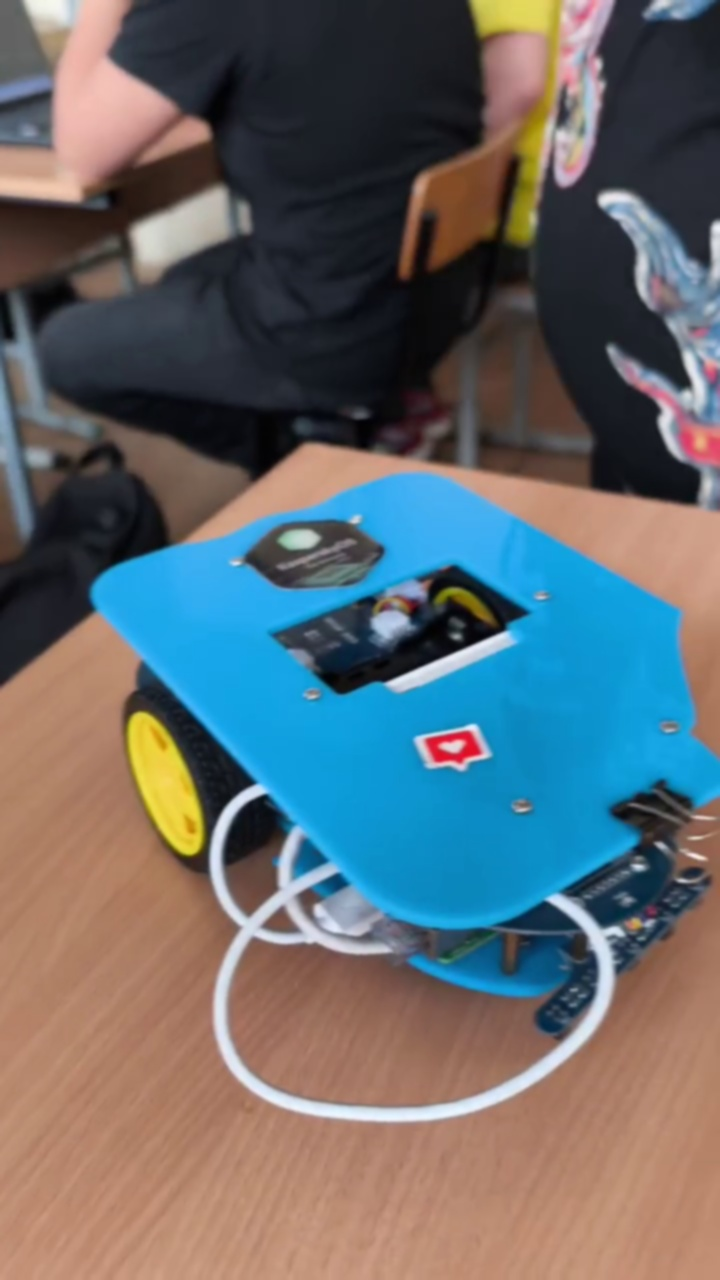robot: (86, 467, 720, 1126)
